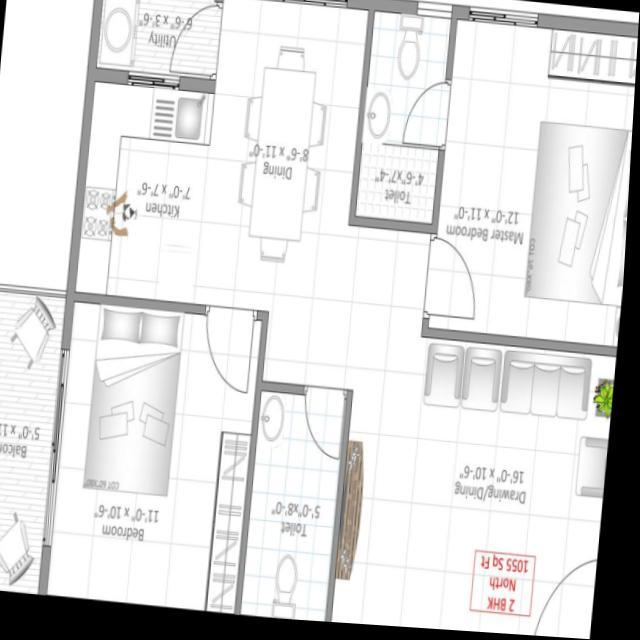Balcony-Sitout: (0, 291, 74, 602)
Bedroom: (49, 300, 274, 620)
Bedroom with Toilet: (352, 7, 639, 347)
Dining: (234, 30, 341, 276)
Enterance-Foyer: (537, 528, 608, 639)
Kitchen: (74, 80, 219, 318)
Living: (334, 340, 622, 639)
Toilet: (243, 387, 356, 626), (349, 0, 462, 238)
Utility: (89, 0, 226, 93)
